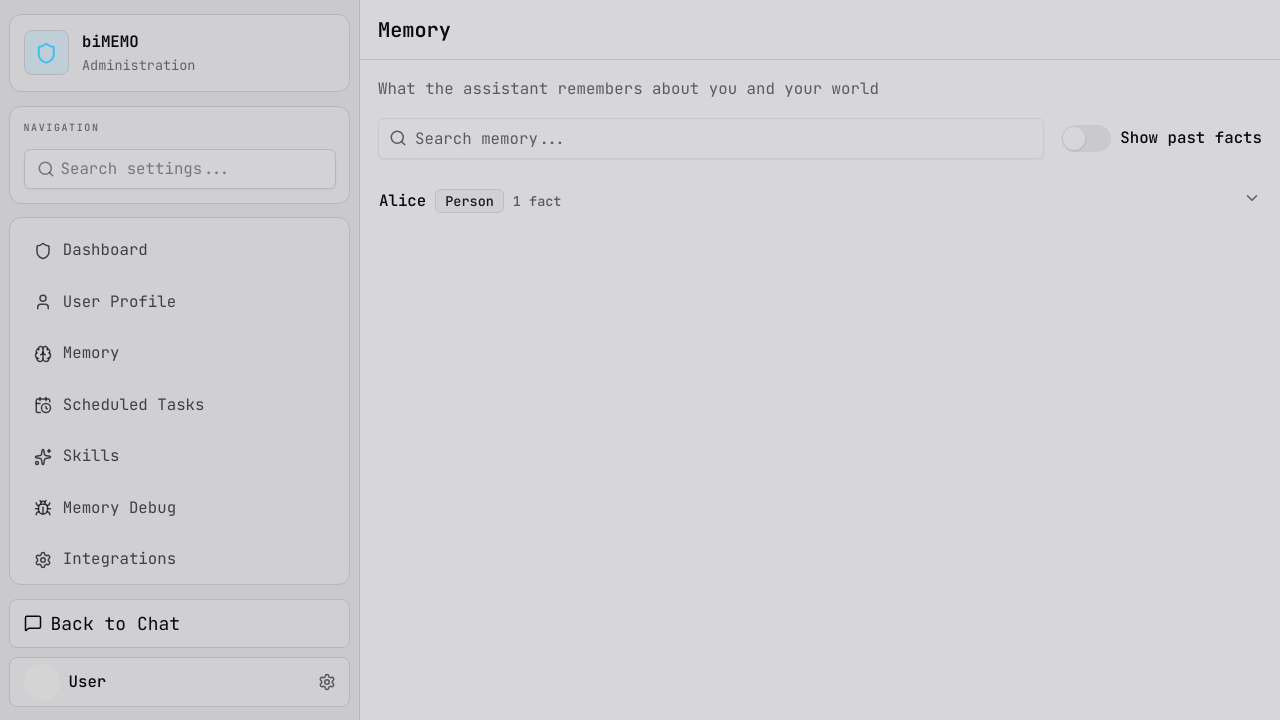
MemoryPage › S3.1/S3.2 — history toggle reveals invalidated facts
Step 1. Click the text "Alice" → (403, 201), box [379,190,426,212]
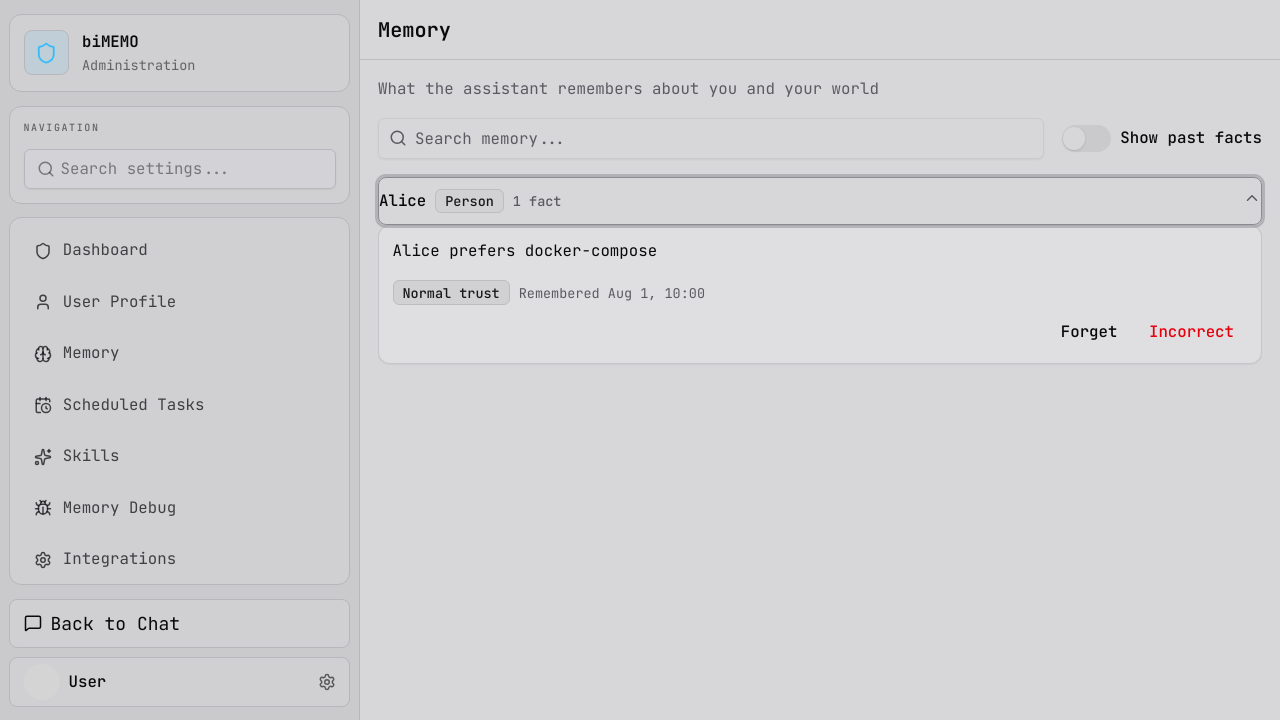
Expected: the text "Alice prefers terraform" is not shown
Expected: the text "Alice prefers docker-compose" is shown, [392,240,657,261]
Step 2. Click the switch → (1087, 138), box [1062,125,1111,152]
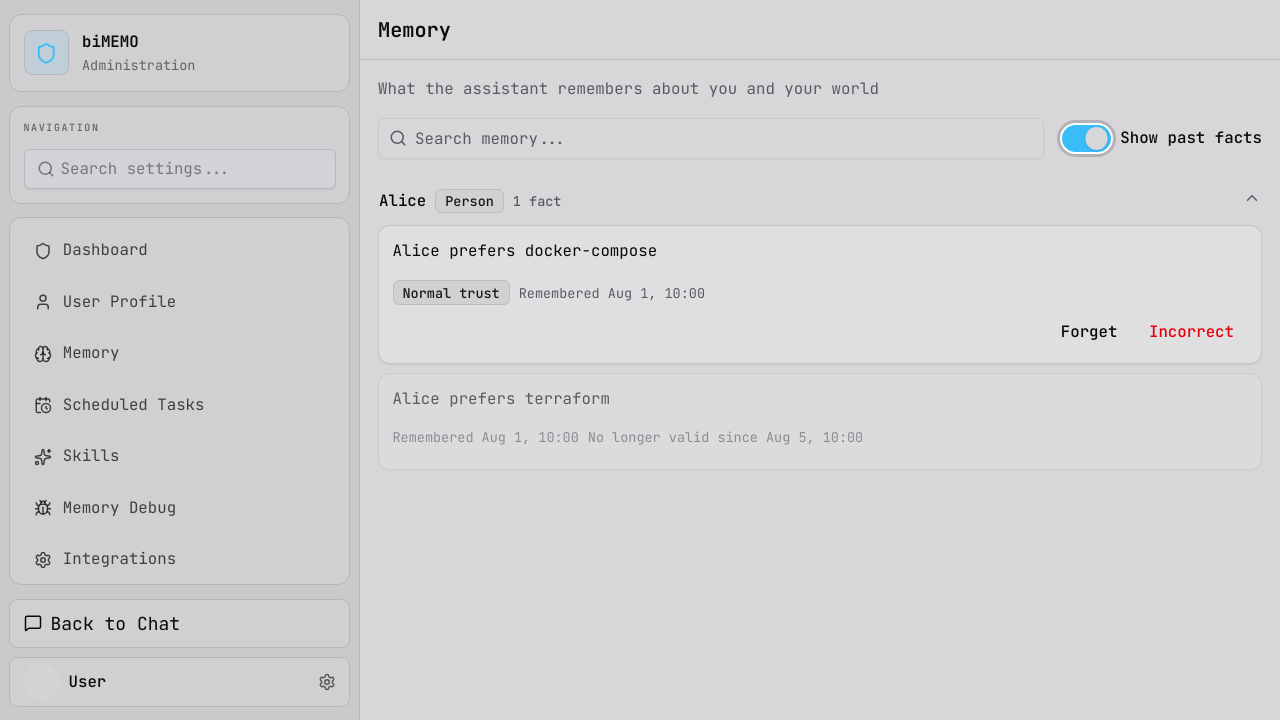
Expected: the text "Alice prefers terraform" is shown, [392,388,610,409]
